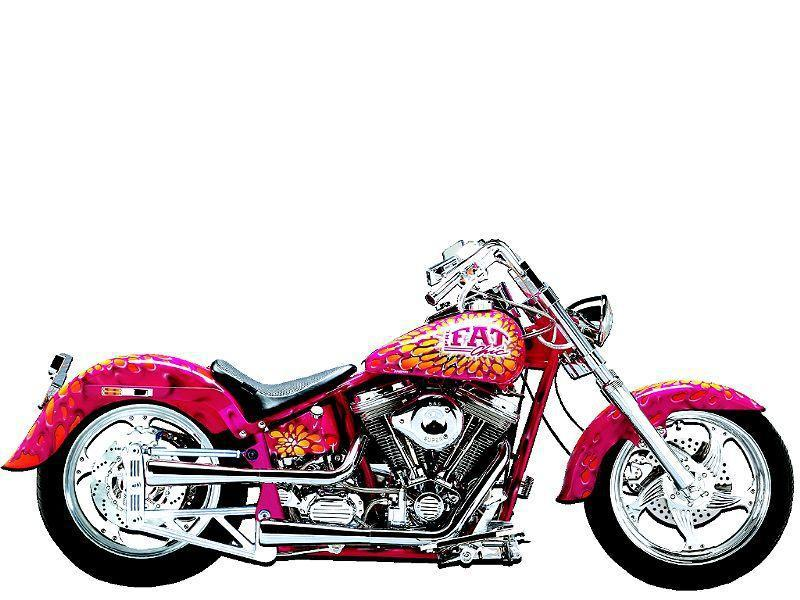motorcycle: (6, 216, 800, 600)
